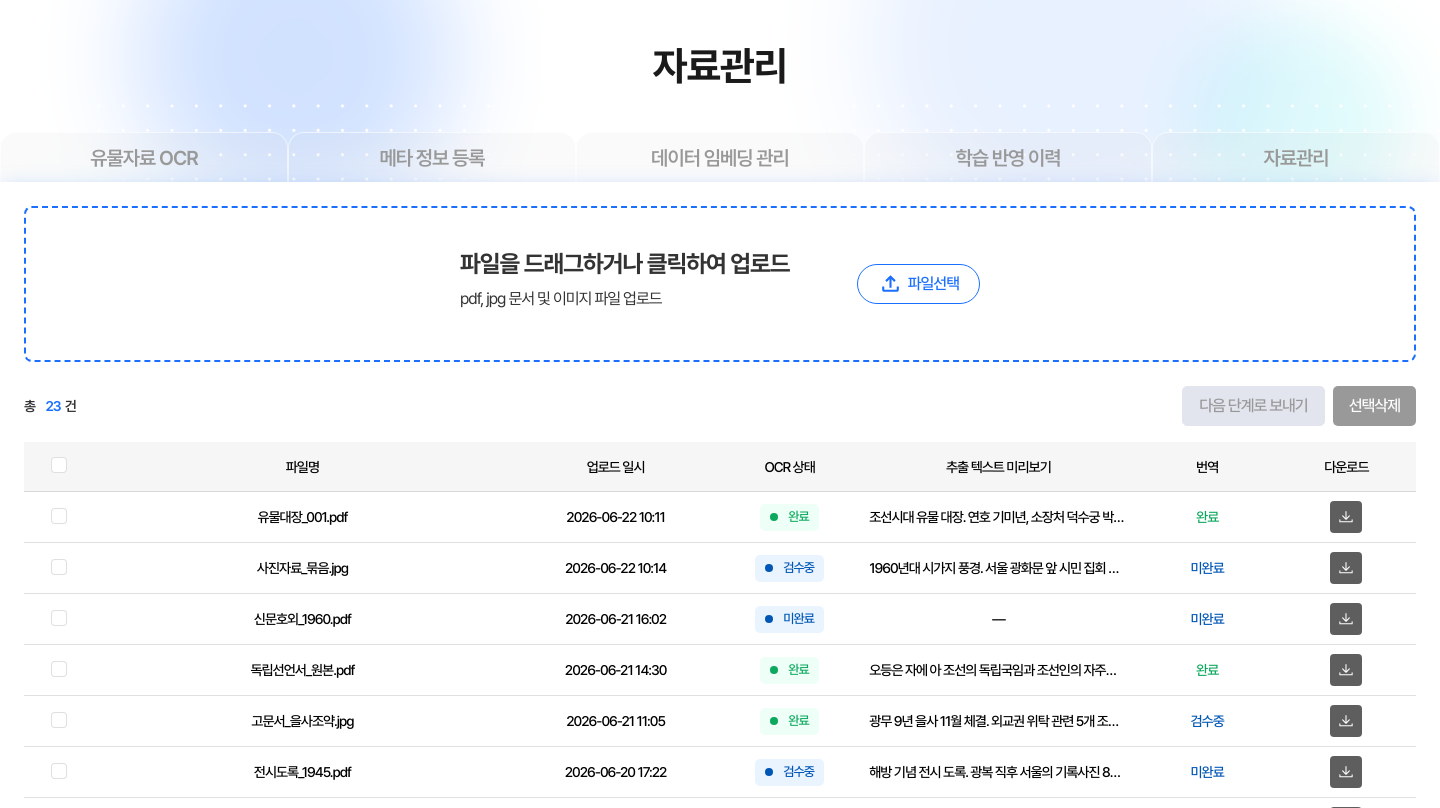
Test case: 파이프라인: D2a — "다음 단계로 보내기"는 준비중이라 OCR→Meta 승급이 더 이상 일어나지 않는다(같은 Provider 트리)
Step 1. Click the checkbox named "선택 o1" → x=59, y=516, box [51,508,67,524]
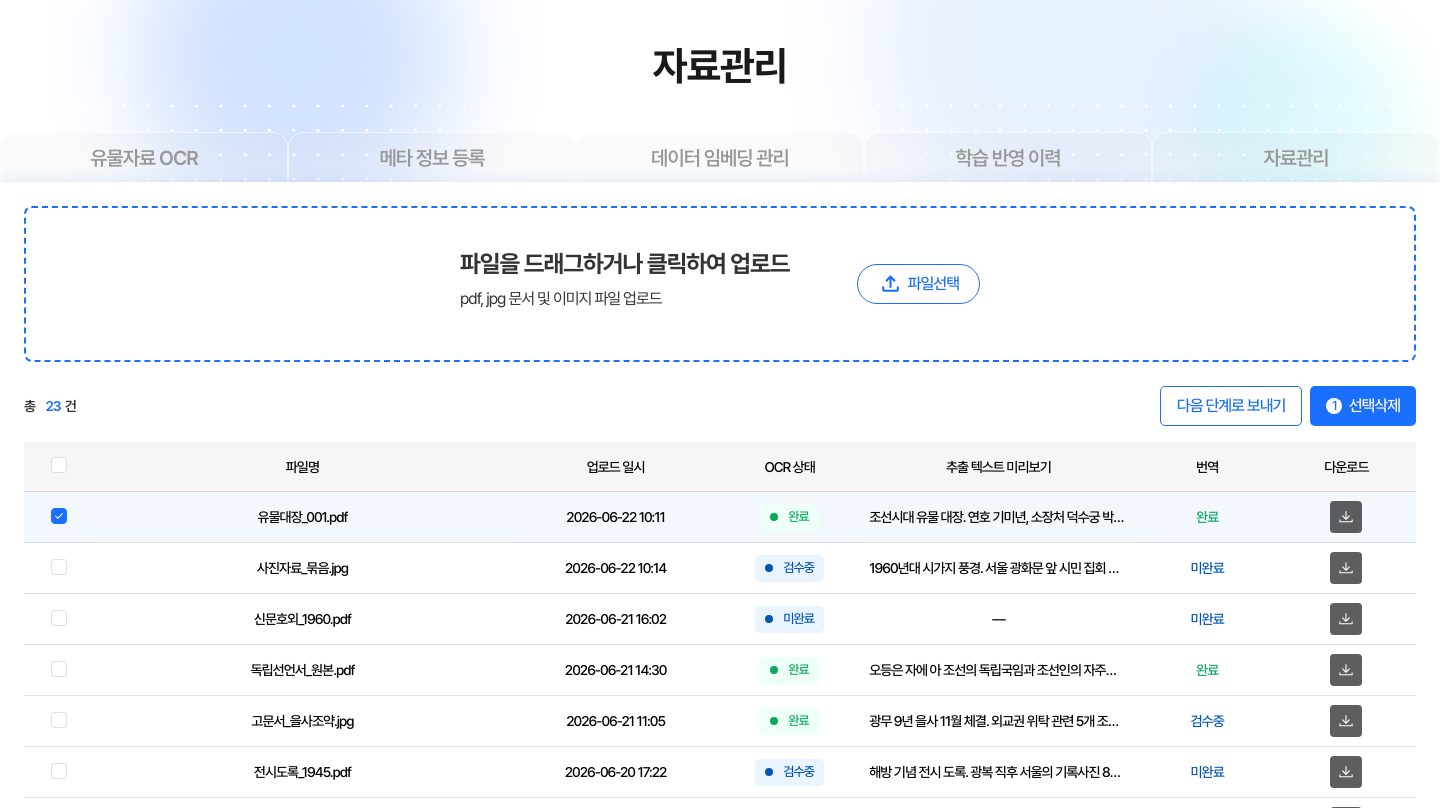
Step 2. Click the button "다음 단계로 보내기" → x=1231, y=406, box [1160,386,1302,426]
(page scrolled)
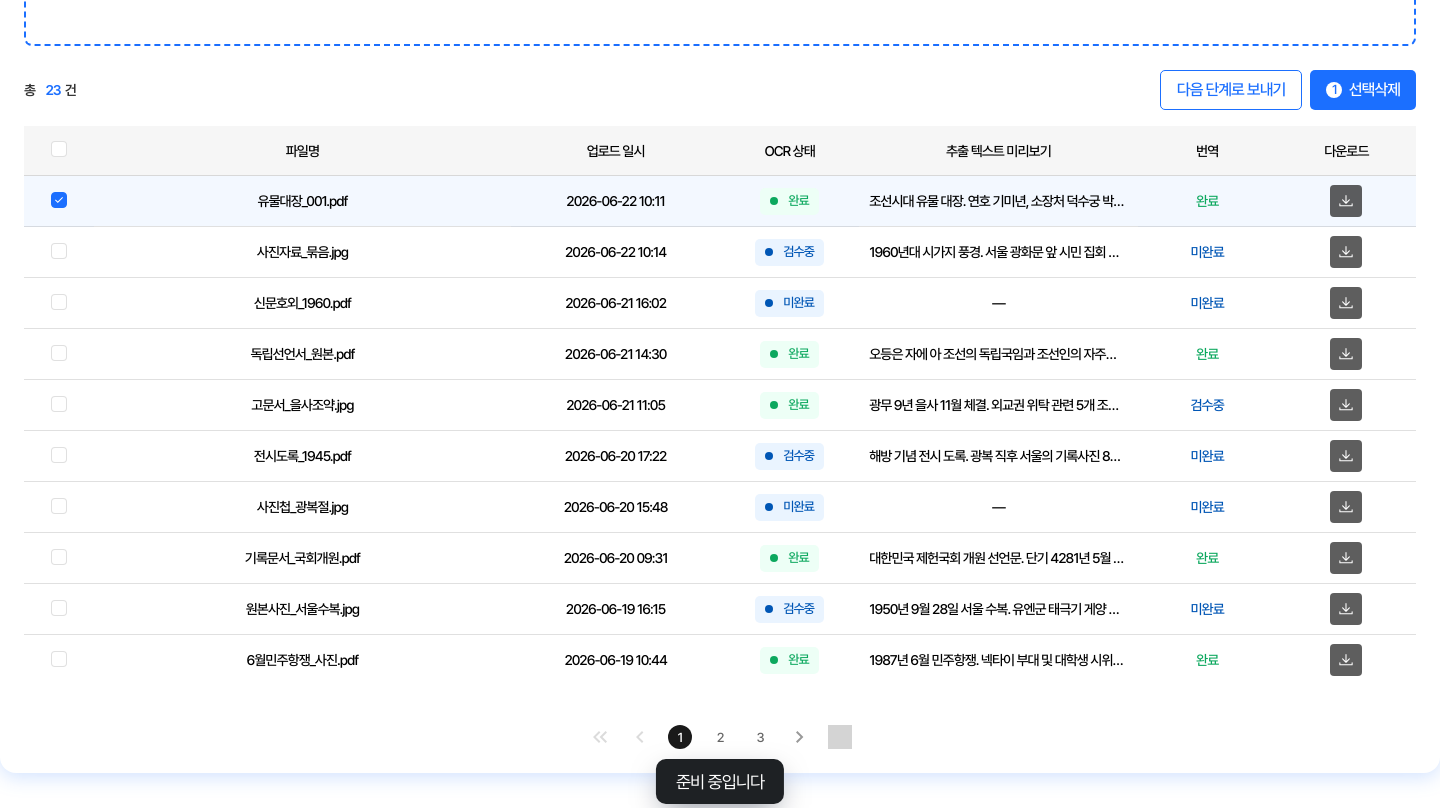
Expected: the table with class "data_table" shows "유물대장_001.pdf", [257,193,347,209]
Now the message reads "준비 중입니다", box [676,771,764,792]
